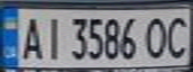3: (66, 14, 87, 61)
5: (84, 15, 106, 61)
6: (118, 15, 142, 61)
8: (103, 15, 124, 61)
A: (15, 12, 45, 61)
C: (163, 12, 193, 61)
I: (39, 12, 66, 61)
O: (142, 13, 172, 60)
